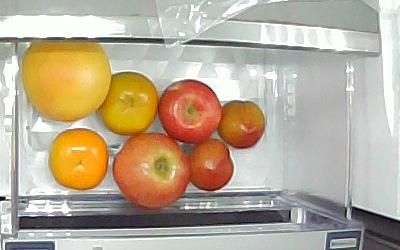apple: (112, 132, 191, 210), (160, 79, 222, 144)
grapefruit: (21, 39, 111, 123)
persimmon: (49, 128, 110, 191), (99, 71, 158, 135)
prune: (219, 98, 267, 150), (187, 139, 234, 191)
